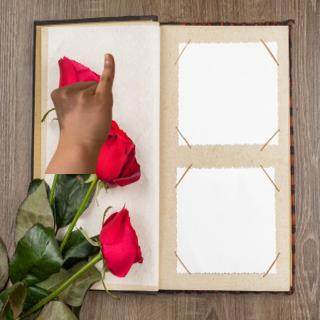FINE: (46, 50, 123, 151)
